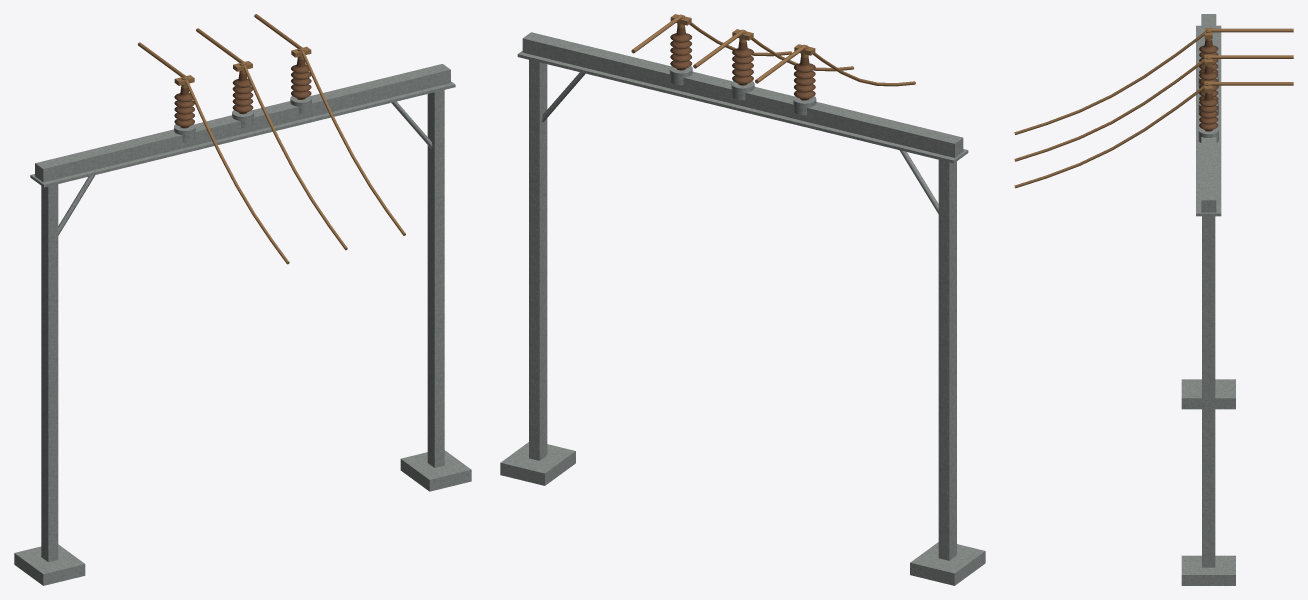
The model's file is SM_Substation_Buswork.fbx.
3 renders of one model, left to right at view 1: azimuth 30°, elevation 25°; view 2: azimuth 150°, elevation 25°; view 3: azimuth 270°, elevation 25°, orthographic. The views are drawn at different scales.
Visible parts, largest first — view 1: SM_Substation_Buswork; view 2: SM_Substation_Buswork; view 3: SM_Substation_Buswork.
Boxes of the visible parts, box(x1,y1,x2,y2) form: SM_Substation_Buswork: box(14, 14, 471, 585); SM_Substation_Buswork: box(500, 14, 985, 585); SM_Substation_Buswork: box(1014, 14, 1293, 585).
Bounding box in the file's own units: 7.65 × 4.61 × 7.88.
